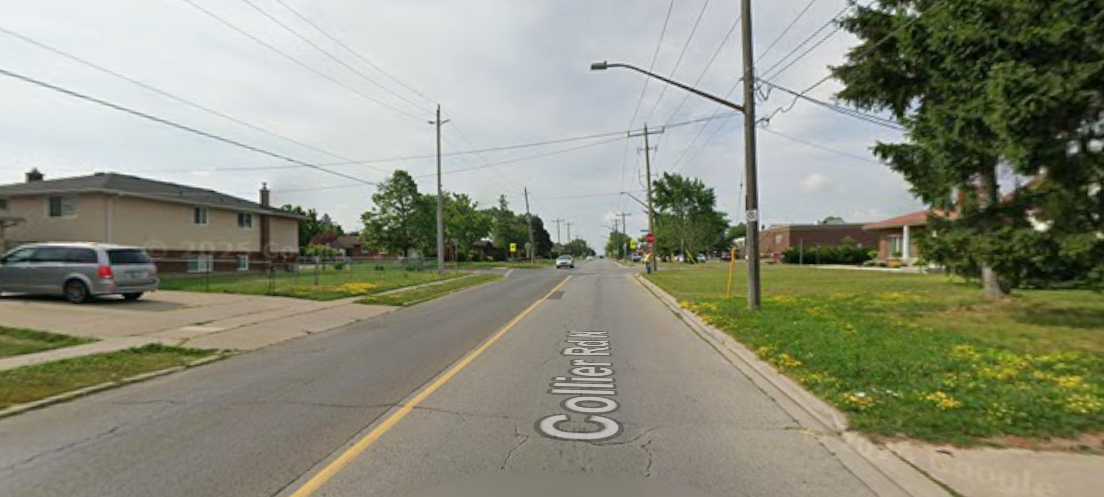cracks: (481, 424, 674, 477), (269, 397, 516, 424)
